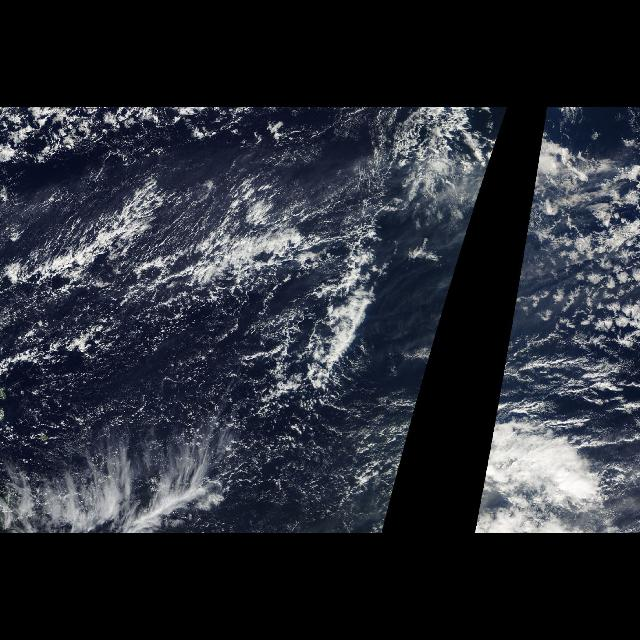Fish: (19, 188, 351, 340)
Gravel: (1, 251, 322, 447)
